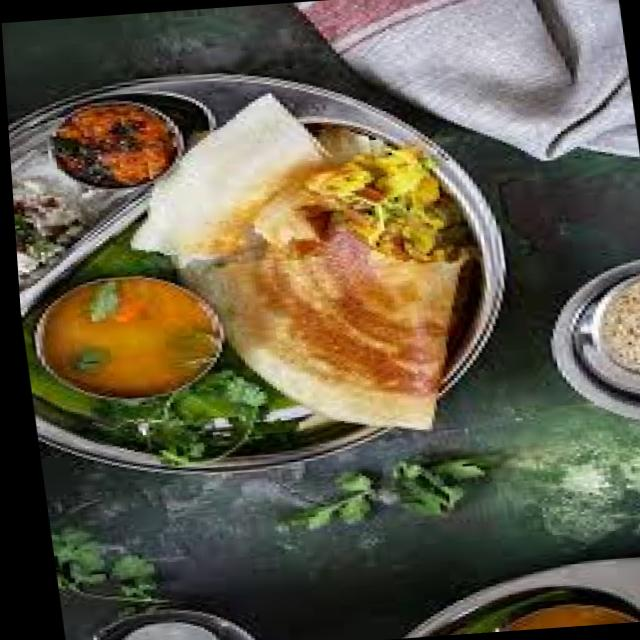DOSA: (129, 98, 456, 429)
RED CHUTNEY: (54, 102, 175, 186)
SAMBAR: (43, 279, 220, 389)
